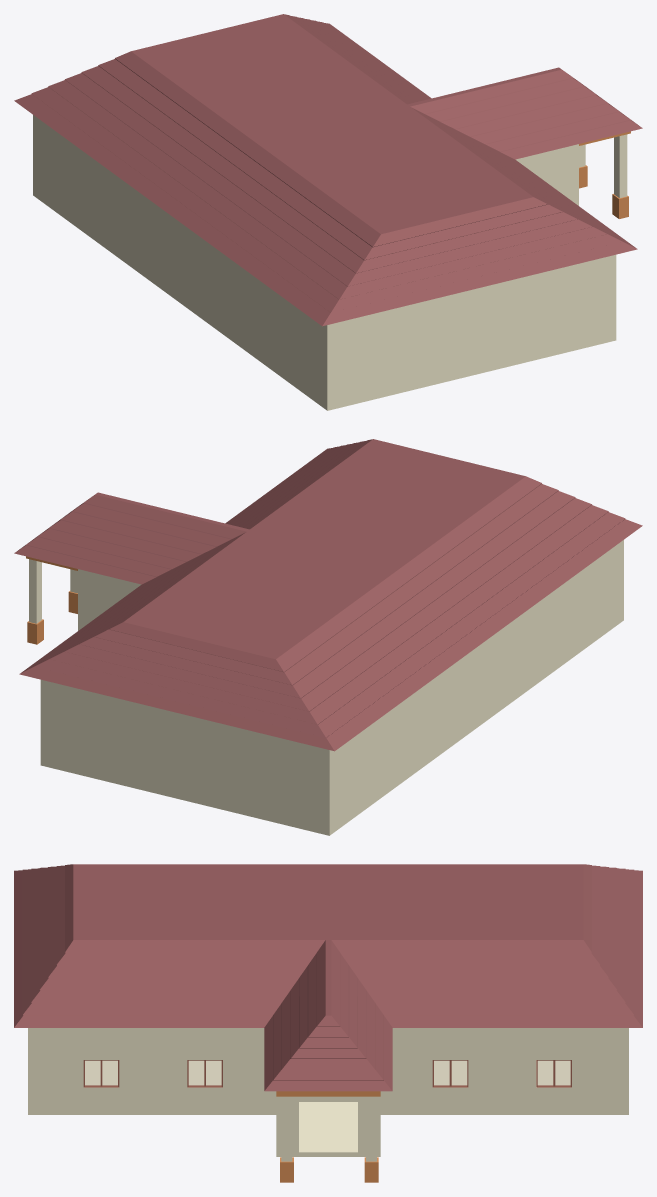
File: kantorPolisi.fbx
3 views of the same model, one above another, from view 1: azimuth 30°, elevation 25°; view 2: azimuth 150°, elevation 25°; view 3: azimuth 270°, elevation 25° (orthographic). The views are drawn at different scales.
Visible parts, largest first — view 1: KantorPolisi; view 2: KantorPolisi; view 3: KantorPolisi.
Boxes of the visible parts, box(x1,y1,x2,y2) form: KantorPolisi: box(14, 14, 642, 410); KantorPolisi: box(14, 439, 642, 835); KantorPolisi: box(14, 864, 642, 1182).
Bounding box in the file's own units: 2104 × 644 × 2534.
